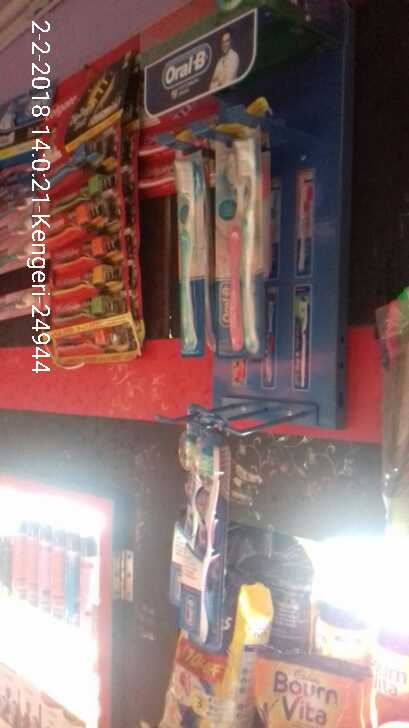oralb: (175, 401, 226, 650), (216, 121, 267, 357), (173, 133, 211, 357)
